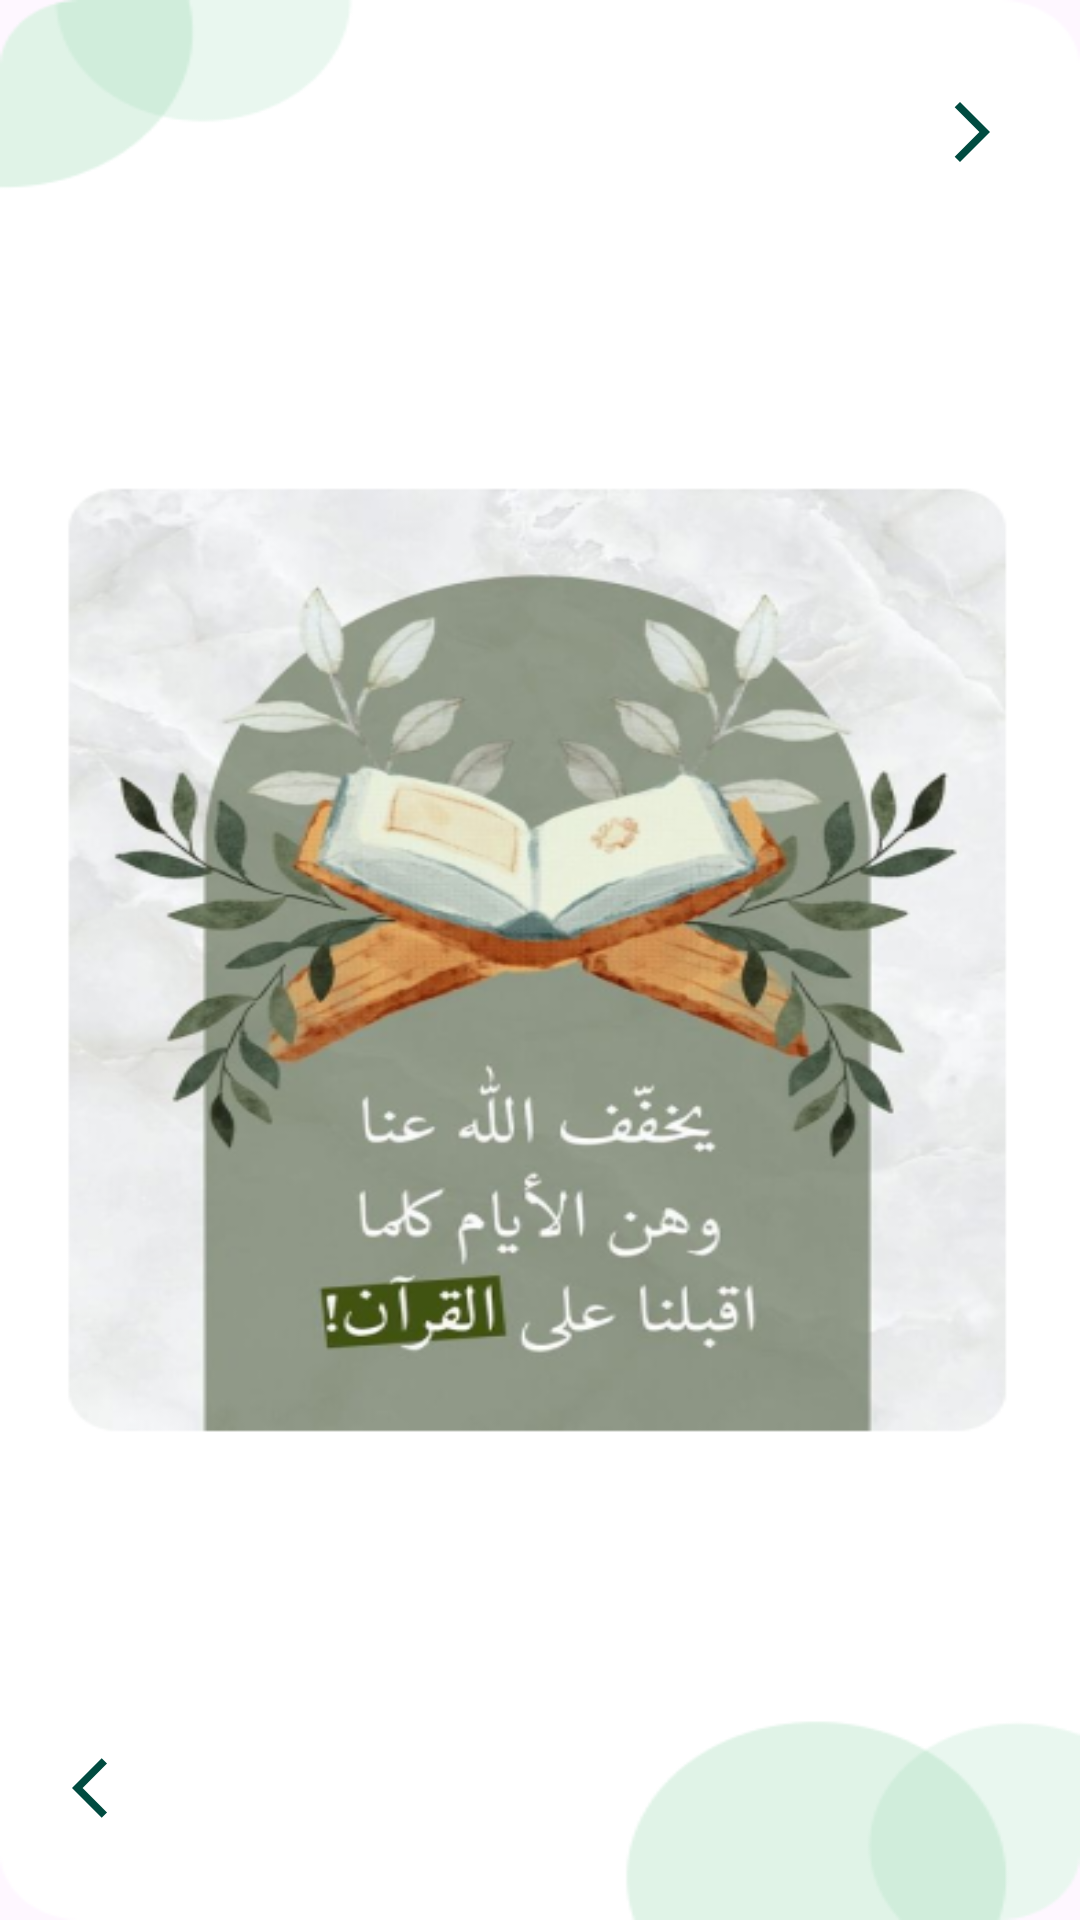

Icon click points for this 1080 x 1920 phone screenshot, format [x,y]:
next: [972,132]
previous: [89,1788]
